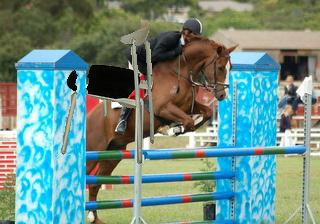tampered: (62, 21, 154, 164)
